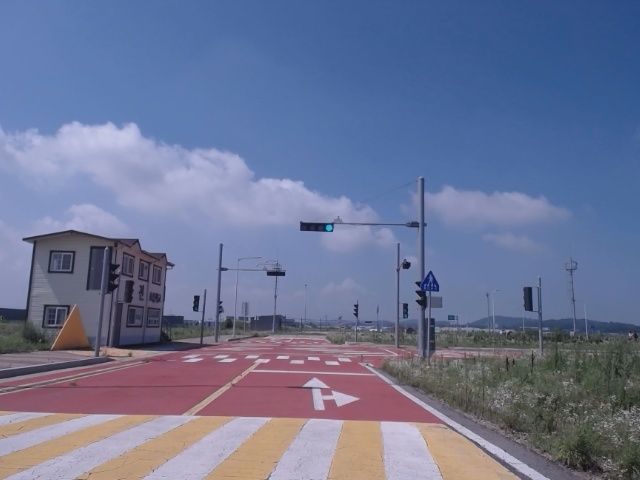straight_green_4: (300, 223, 333, 232)
